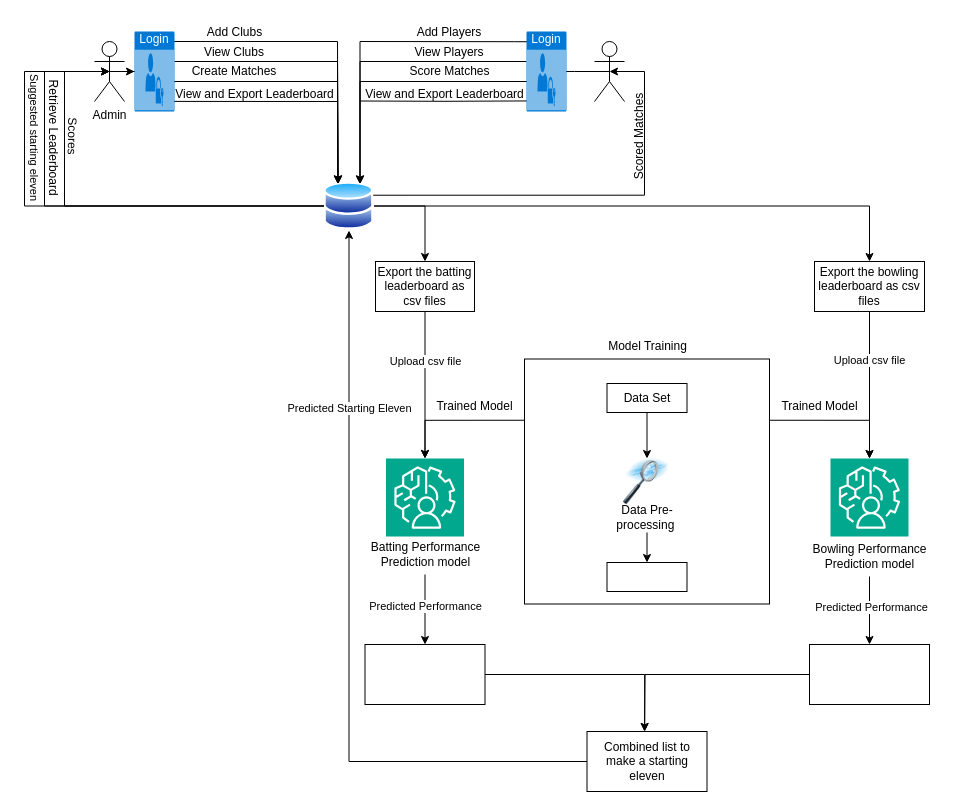
Image size: 957x809. Some labels were removed from this diagram. The shapes that lost their labels are listed below. From the top down, each one's centre as x and y in pixels, then its label:
[609,71]: Club
[646,577]: Data Training
[424,674]: Top 6 predicted high performers for the next match
[869,674]: Top 5 predicted high performers for the next match
